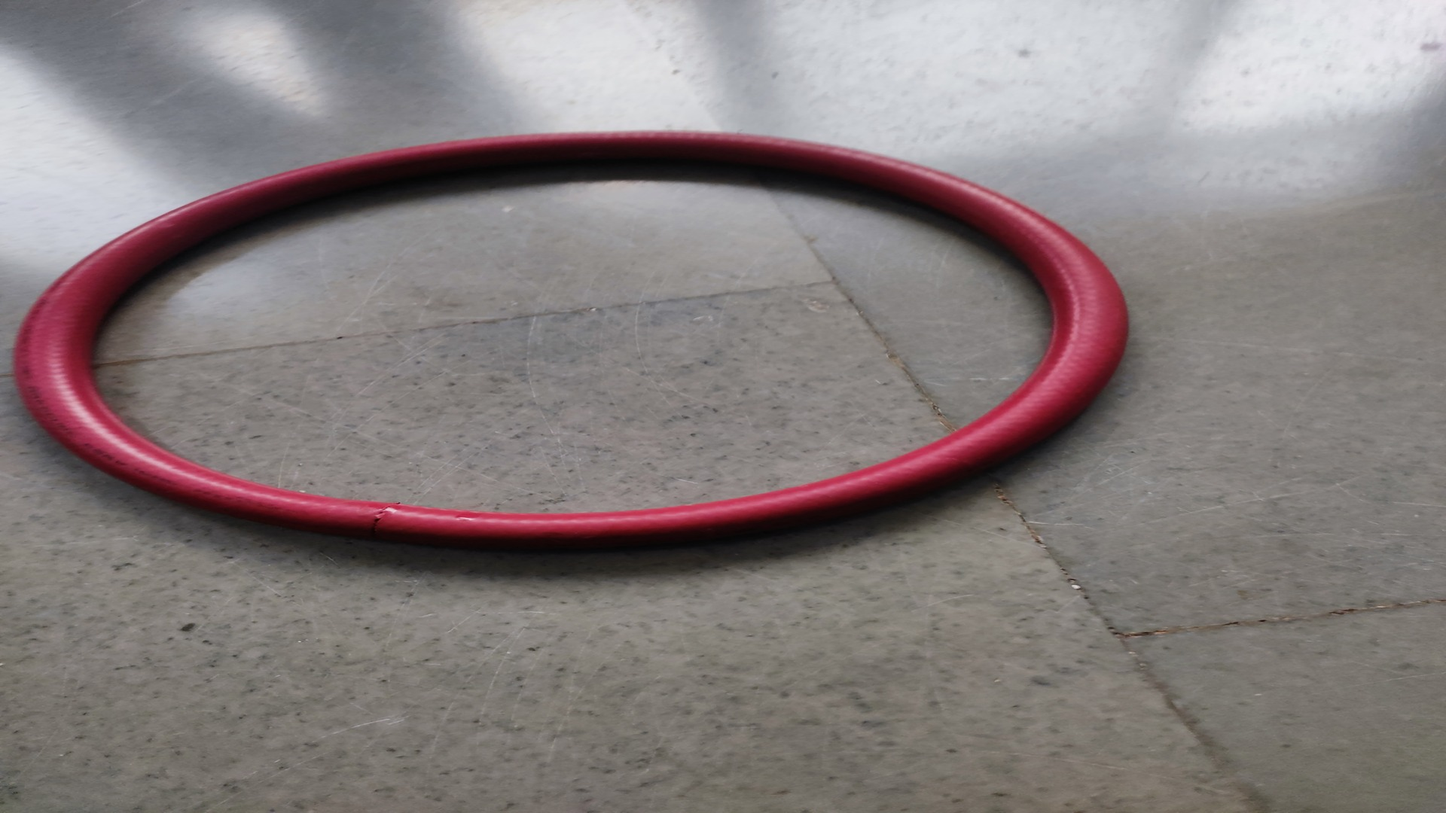Red ring: (21, 130, 1126, 537)
